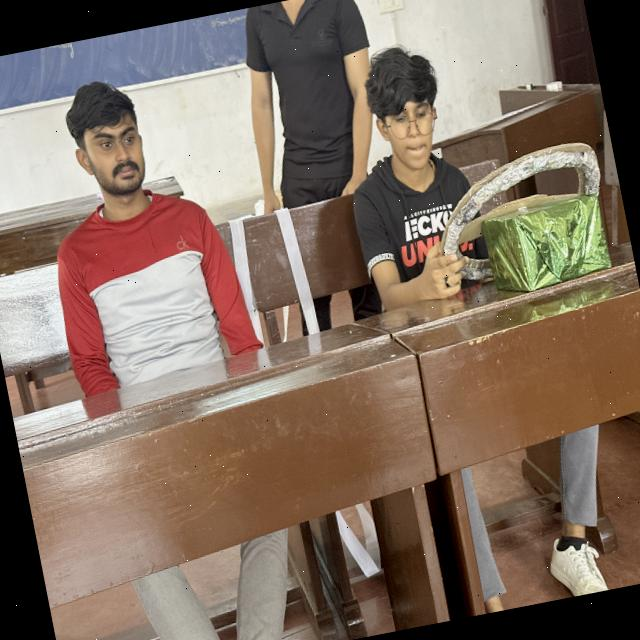Helmet: (38, 176, 259, 414), (340, 140, 509, 322)
